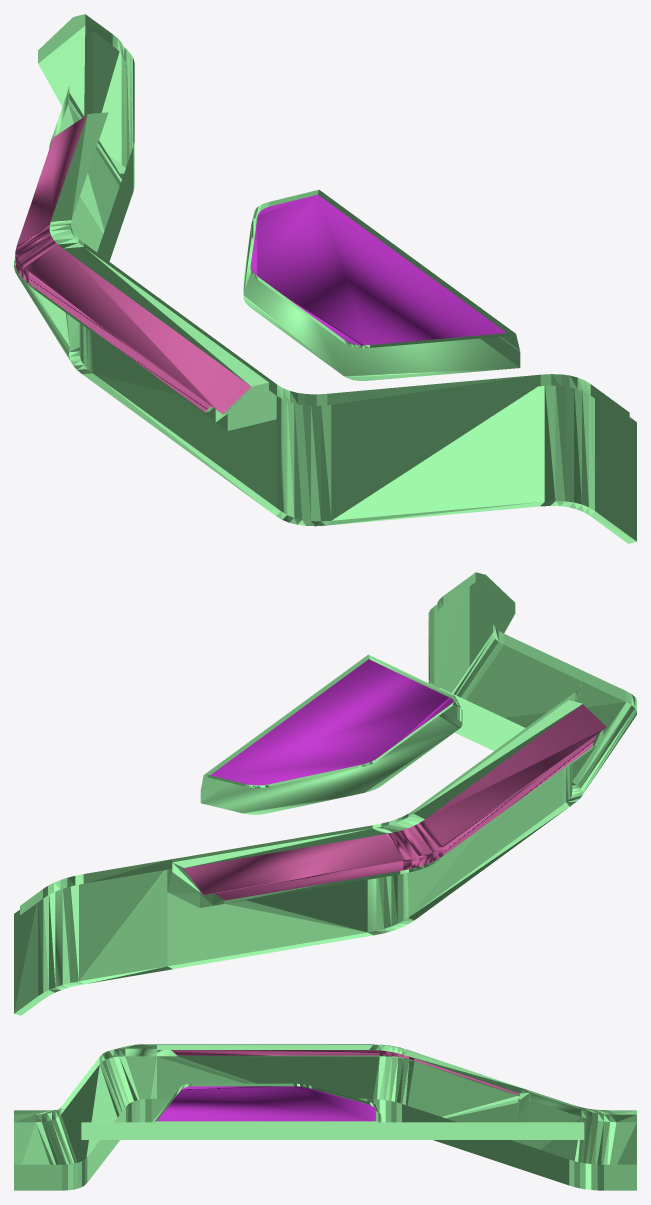
File: plate_trim_64m_obsdeck_a.glb
3 views of the same model, one above another, from view 1: azimuth 30°, elevation 25°; view 2: azimuth 150°, elevation 25°; view 3: azimuth 270°, elevation 25° (orthographic). The views are drawn at different scales.
Bounding box in the file's own units: 19.7 × 8.5 × 64.
